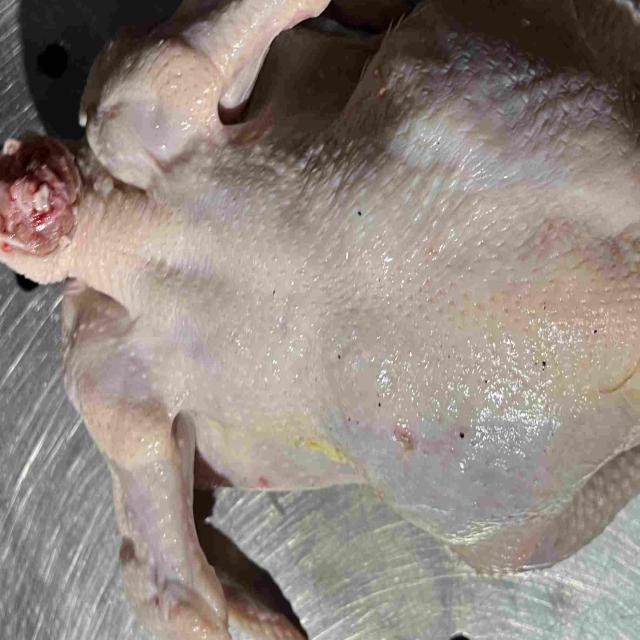back: (157, 122, 640, 447)
leg: (364, 412, 640, 582), (380, 0, 640, 115)
wing: (67, 316, 310, 640), (78, 0, 403, 178), (0, 136, 161, 304)
